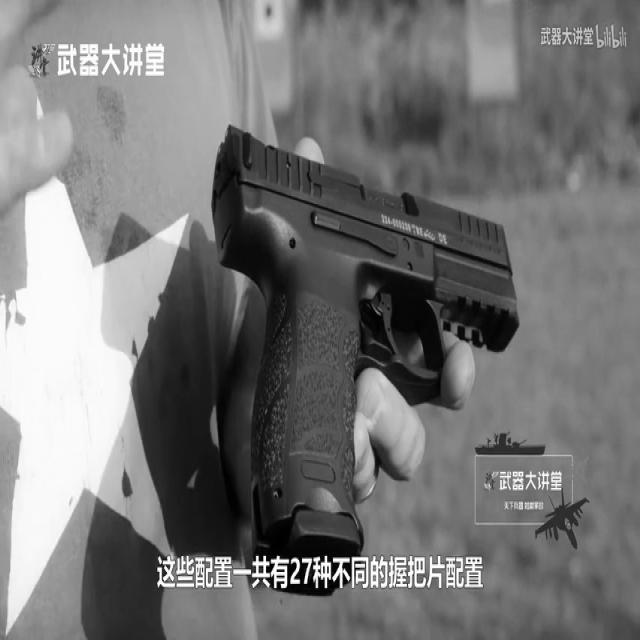Hand-Gun: (198, 106, 526, 580)
